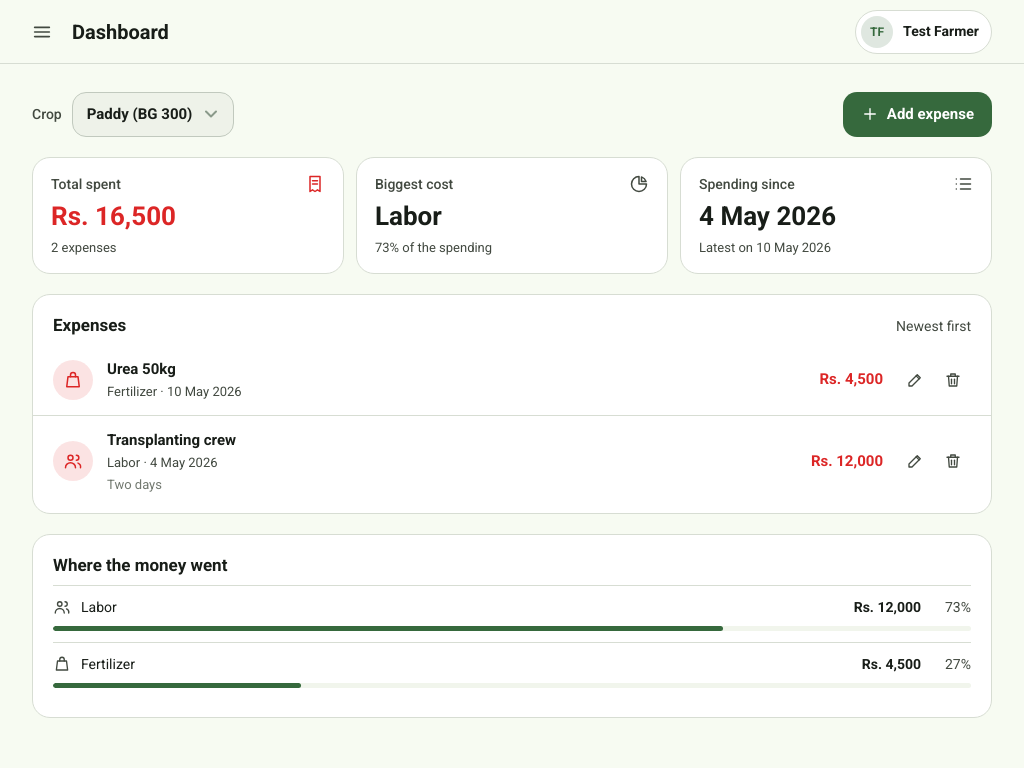
ExpensesPage › edits an expense through the prefilled form
The image size is (1024, 768).
Later steps or results of the test are not shown.
Click the button named "Edit Urea 50kg" at coordinates (915, 380), box [897,362,933,398]
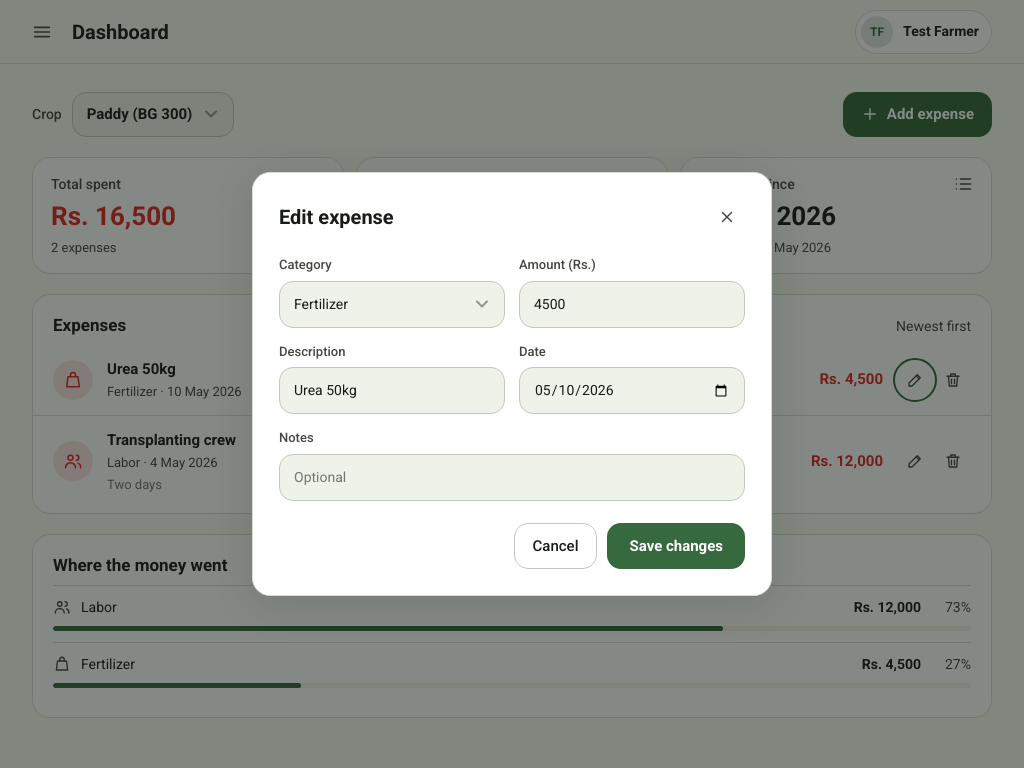
Check: the number field with placeholder "e.g. 3500" holds "4500", box [519,280,745,328]
